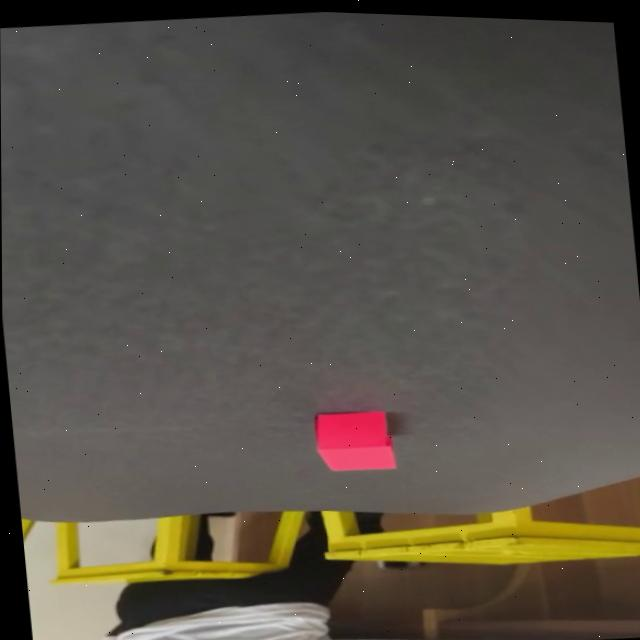red block: (311, 405, 397, 476)
